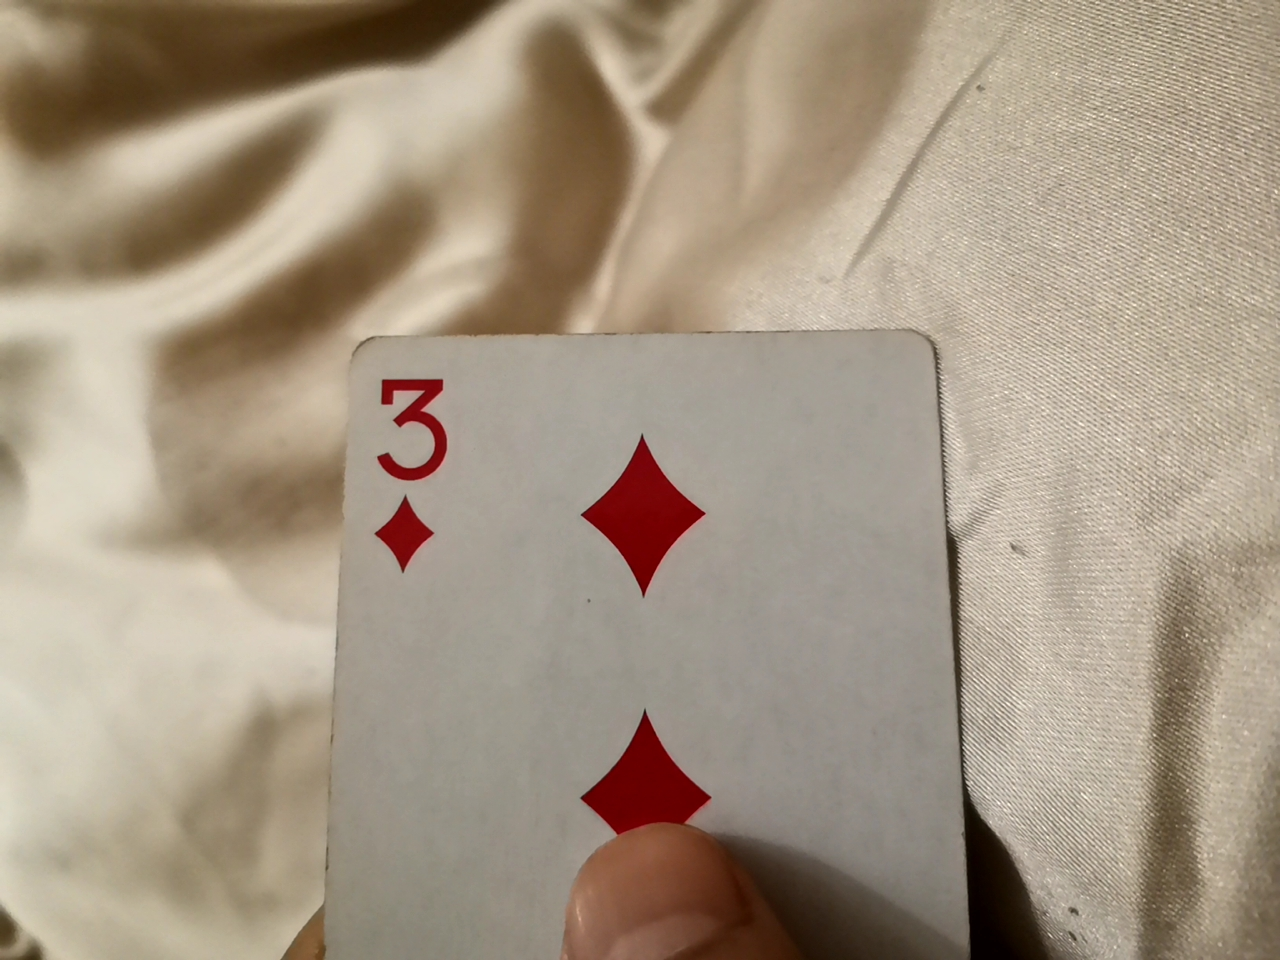fk 3: (245, 292, 1017, 960)
